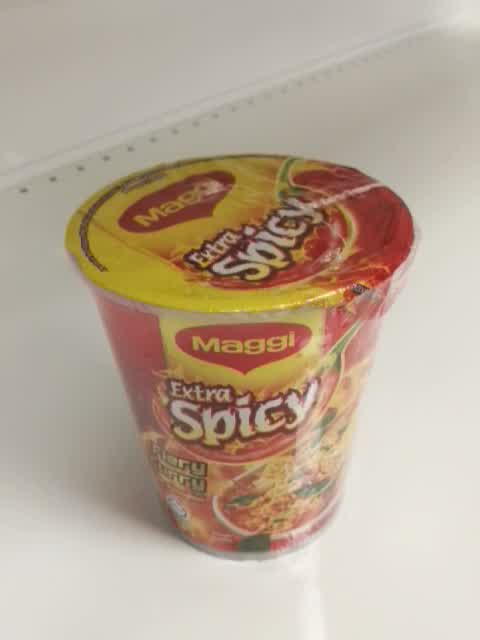maggi: (62, 152, 422, 564)
